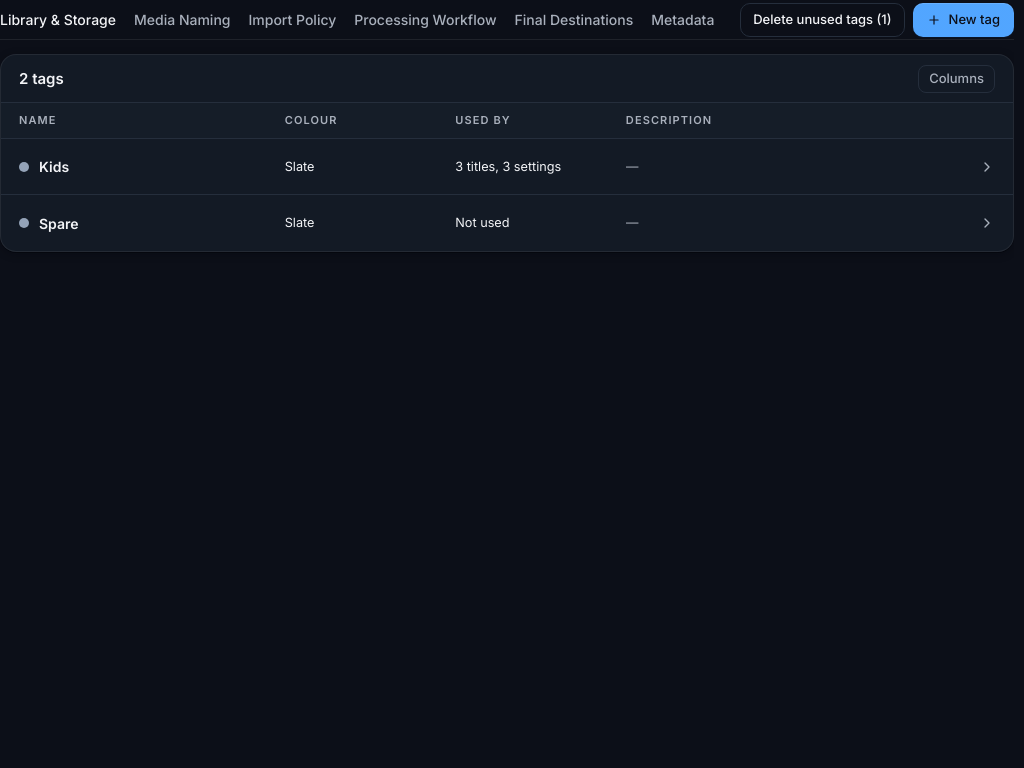
Tags page (#1039) › falls back to its own sentence when the server gives no reason (#1341)
Click the button "New tag" at (963, 20), box x1=913 y1=2 x2=1014 y2=36
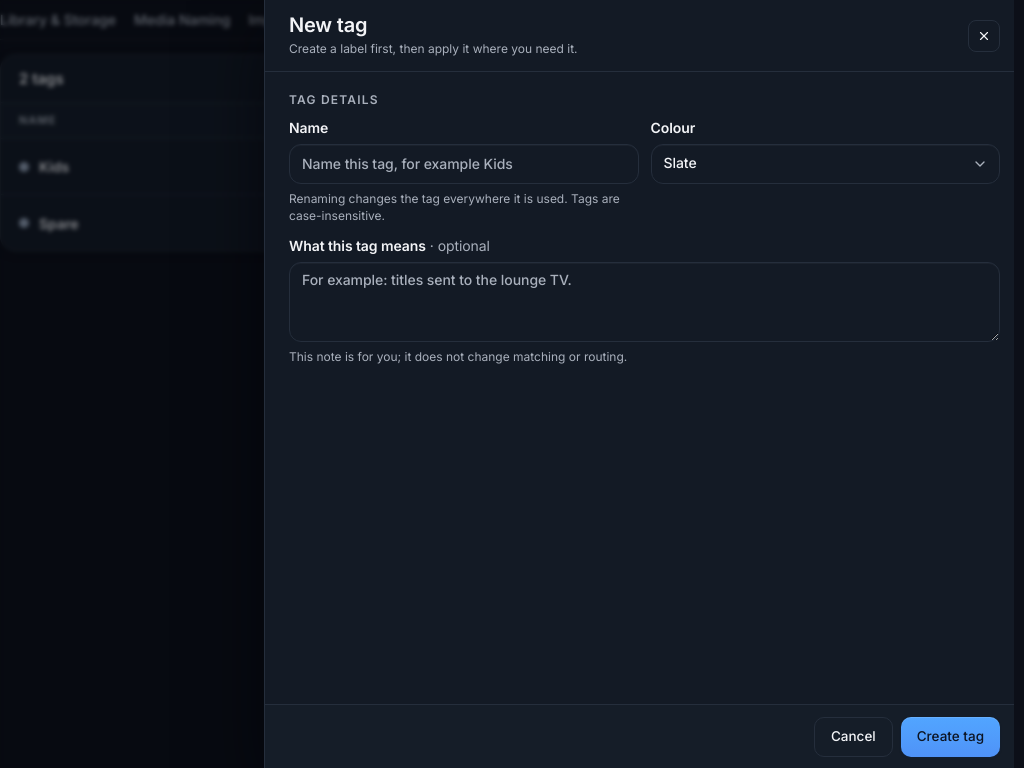
Type "Lounge" into the field labelled "Name" at (464, 164), box x1=289 y1=144 x2=638 y2=184
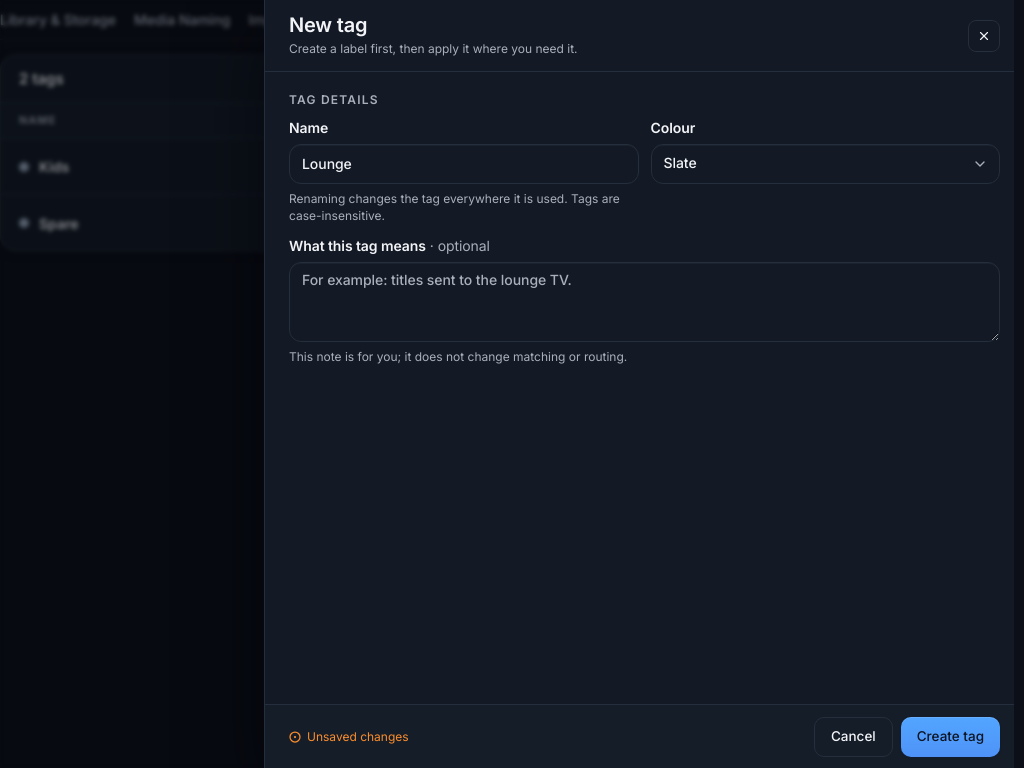
Click the button "Create tag" at (950, 736), box x1=901 y1=716 x2=1000 y2=756
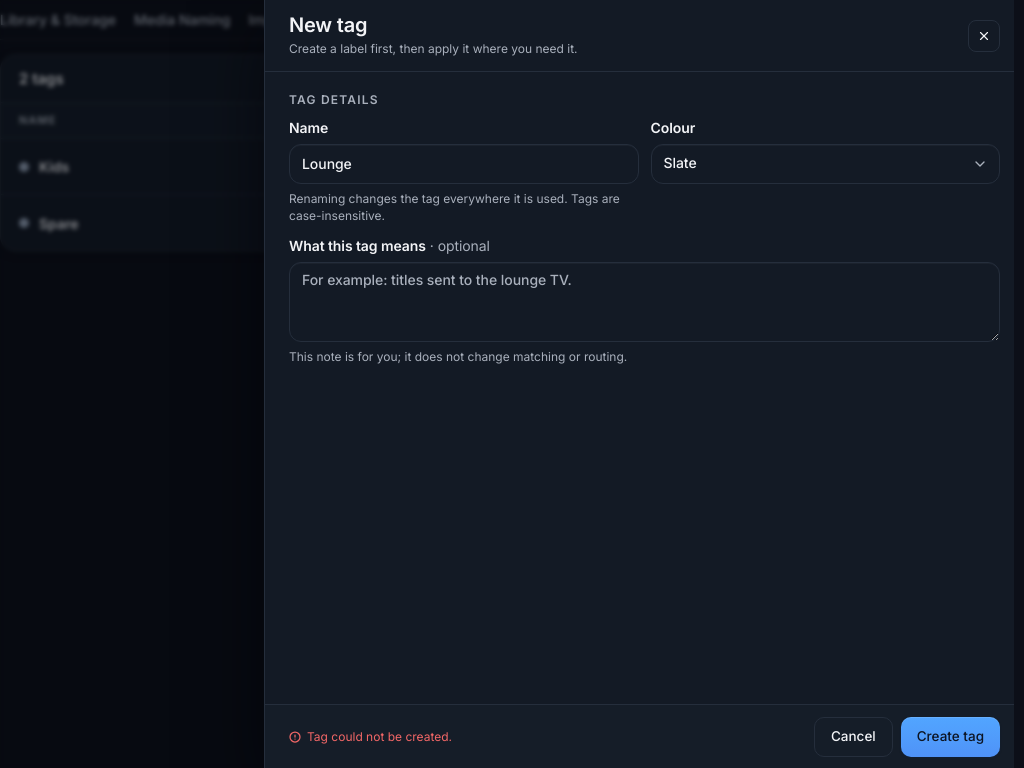
Result: the text "Tag could not be created." is shown at x1=307 y1=728 x2=452 y2=746
